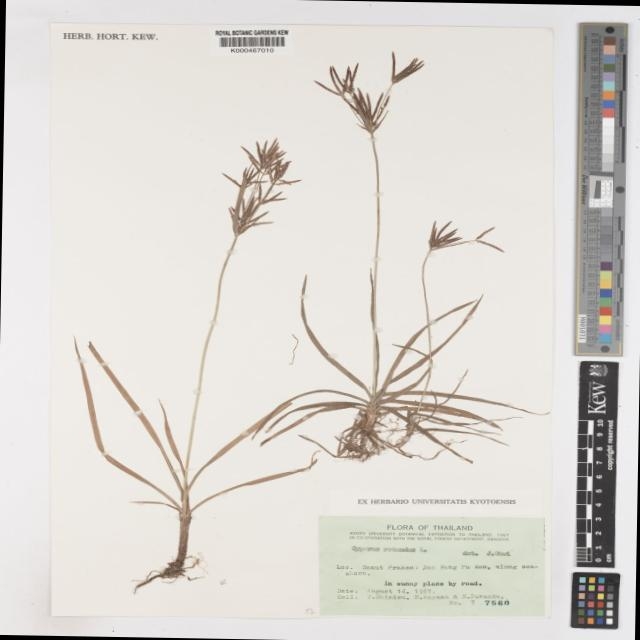cyperus: (298, 46, 427, 132), (202, 130, 296, 237), (416, 216, 504, 262)
